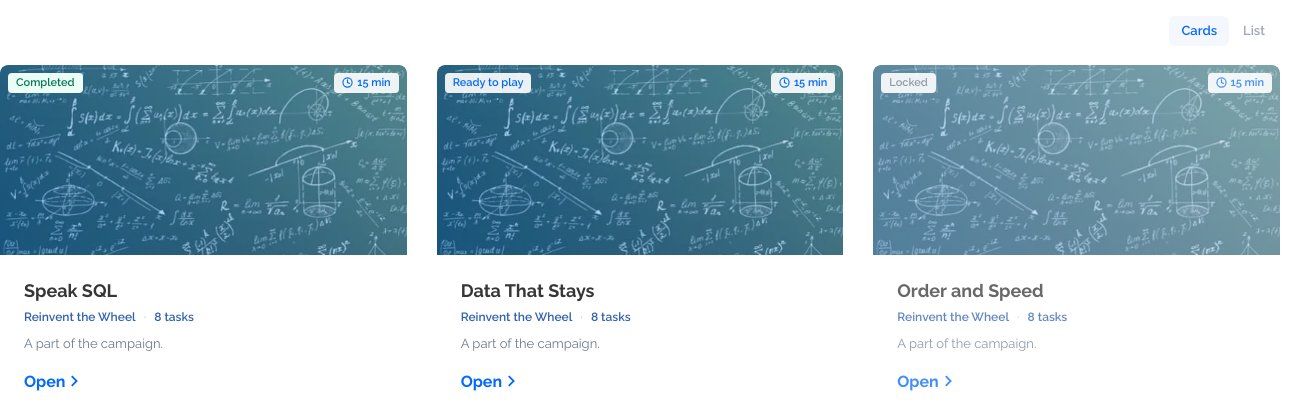
Test: CampaignPartsList › opens on cards and can switch to the list
This screenshot has width=1292, height=408.
Expected: the number of elements with test id "project-part-state" is 3, [8,72,83,93]; [445,72,532,93]; [881,72,936,93]
Click the button "List" at (1254, 31), box [1231,16,1277,46]
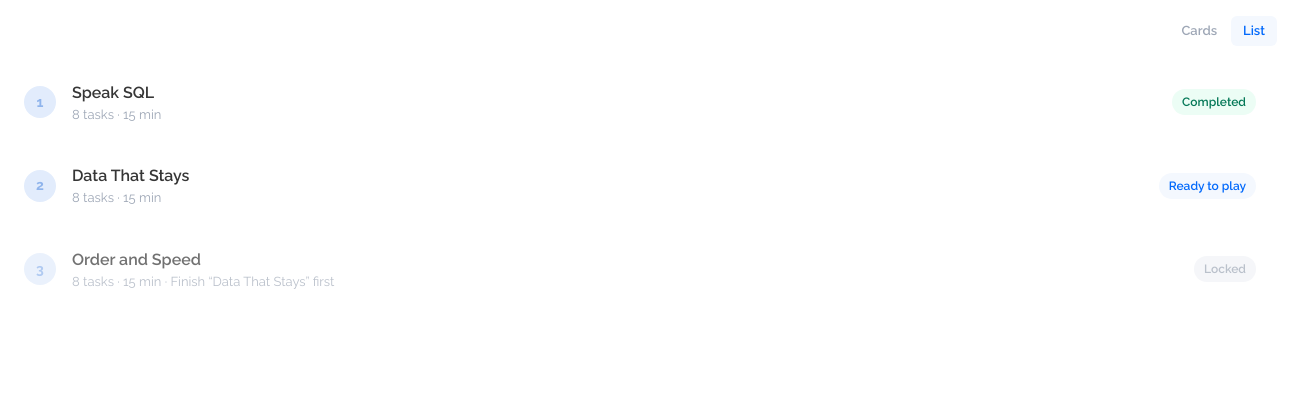
Expected: the text "Speak SQL" is shown, [72,82,154,102]
Result: no elements with test id "project-part-state" are shown
